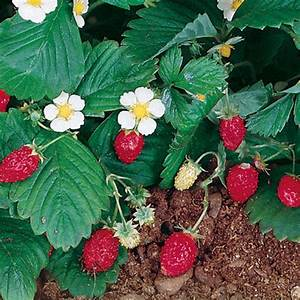Fresa: (156, 224, 203, 282), (77, 221, 122, 278), (223, 158, 265, 211), (1, 141, 44, 187), (110, 124, 149, 168), (214, 108, 249, 154), (271, 167, 300, 211)
